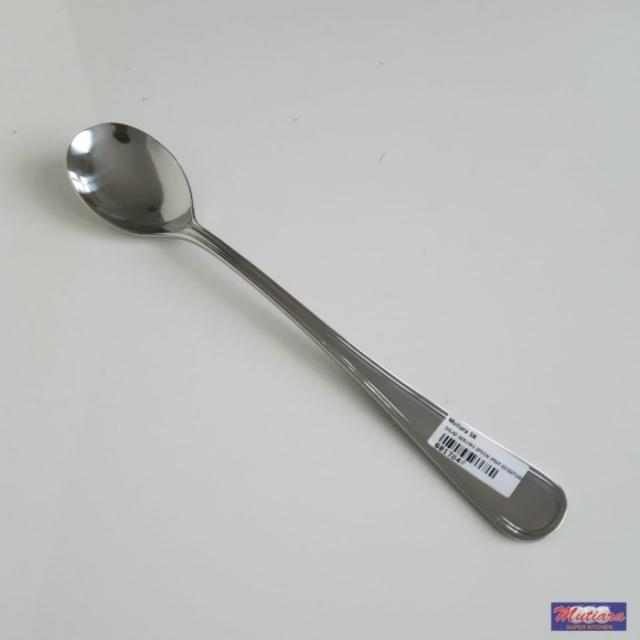spoon: (57, 101, 576, 564)
